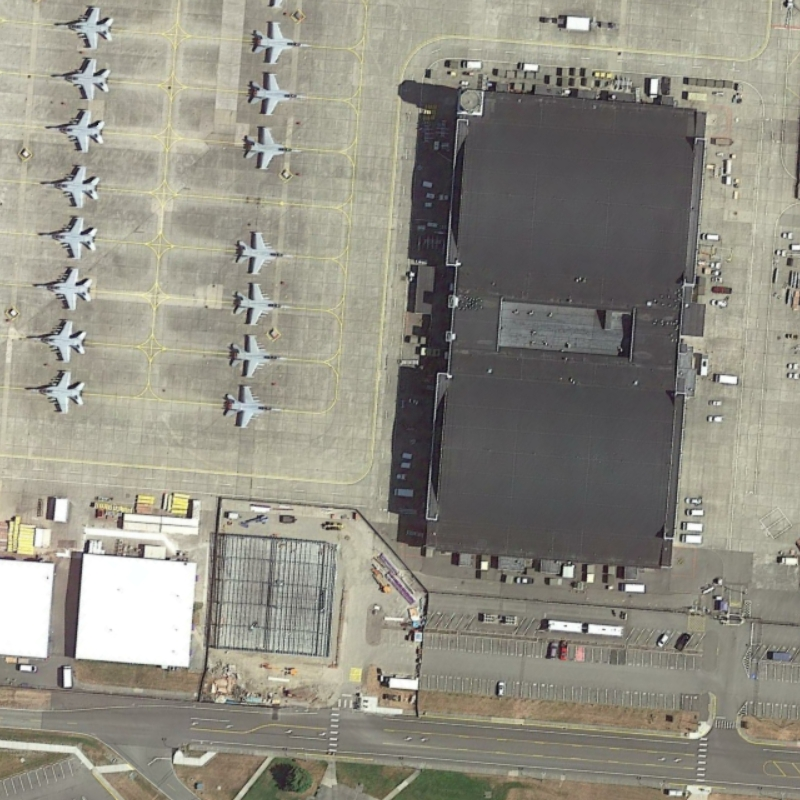A16: (25, 318, 90, 366), (246, 70, 310, 118), (249, 20, 314, 67), (37, 164, 103, 210), (31, 265, 95, 312), (22, 369, 86, 416), (242, 125, 303, 173), (232, 229, 294, 276), (227, 333, 289, 380), (222, 383, 284, 430), (49, 56, 113, 101), (35, 215, 97, 261), (52, 6, 115, 51), (43, 108, 106, 153), (233, 281, 292, 328)
